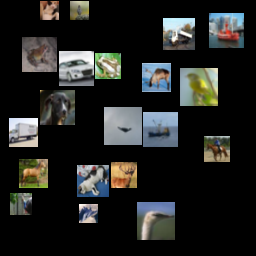airplane: (104, 107, 142, 145), (79, 204, 98, 223)
automobile: (59, 51, 94, 86)
bird: (180, 68, 218, 106), (137, 202, 175, 240), (10, 193, 32, 215), (70, 1, 89, 20)
cat: (77, 165, 109, 197), (40, 1, 59, 20)
deer: (142, 63, 171, 92), (111, 162, 137, 188)
dog: (40, 90, 75, 125)
frog: (22, 37, 57, 72), (95, 53, 121, 79)
ship: (209, 13, 244, 48), (143, 112, 178, 147)
